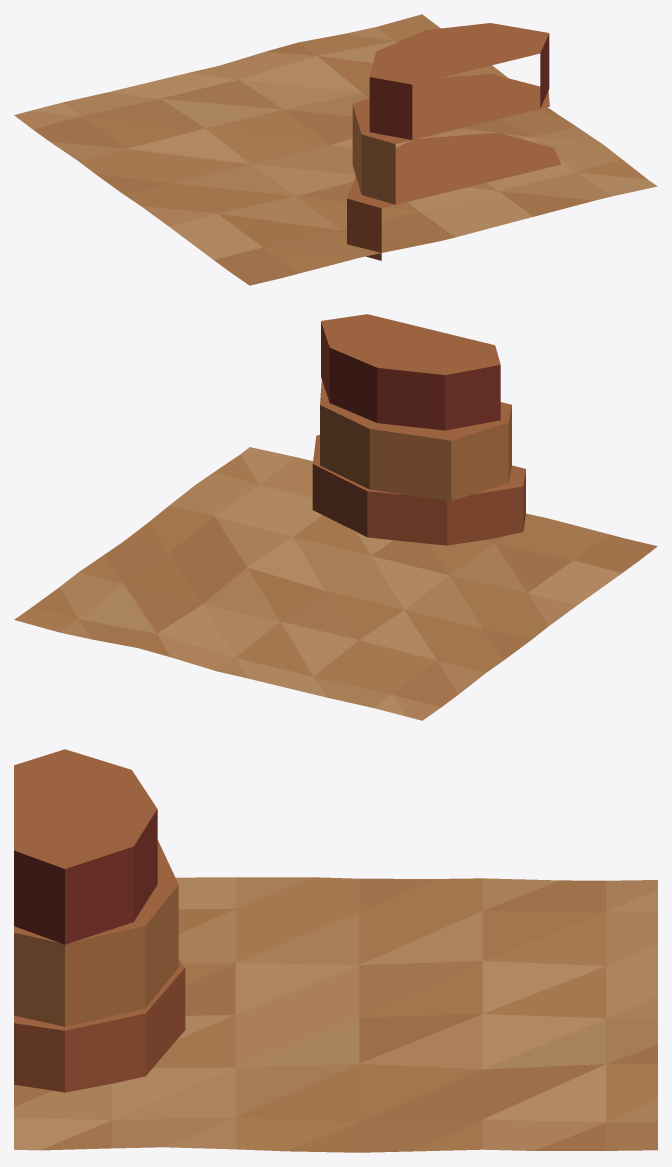
The picture shows the model from 3 angles, top to bottom: view 1: azimuth 30°, elevation 25°; view 2: azimuth 150°, elevation 25°; view 3: azimuth 270°, elevation 25°; orthographic projection. The views are drawn at different scales.
Parts seen in each view (by area): view 1: baked; view 2: baked; view 3: baked.
Part boxes in pixels (x1,y1,x2,y2): baked: [14, 14, 657, 285]; baked: [14, 314, 657, 720]; baked: [14, 749, 657, 1152].
Size of the model in its own units: 62.5 by 24.69 by 62.5.
